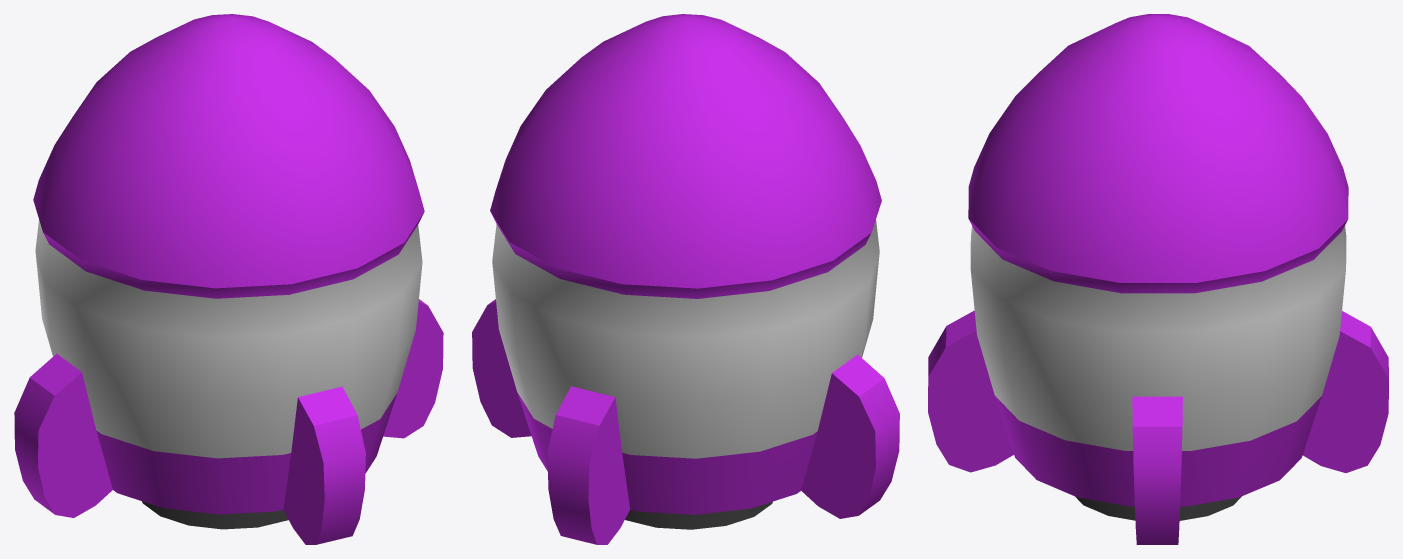
Rendered from Rocket.fbx.
3 renders of one model, left to right at view 1: azimuth 30°, elevation 25°; view 2: azimuth 150°, elevation 25°; view 3: azimuth 270°, elevation 25°, orthographic.
Parts seen in each view (by area): view 1: Cylinder.003; view 2: Cylinder.003; view 3: Cylinder.003.
Part boxes in pixels (x1=…): Cylinder.003: x1=14, y1=14, x2=443, y2=544; Cylinder.003: x1=472, y1=14, x2=899, y2=544; Cylinder.003: x1=928, y1=14, x2=1388, y2=544.
Size of the model in its own units: 24.55 by 27.46 by 24.55.
